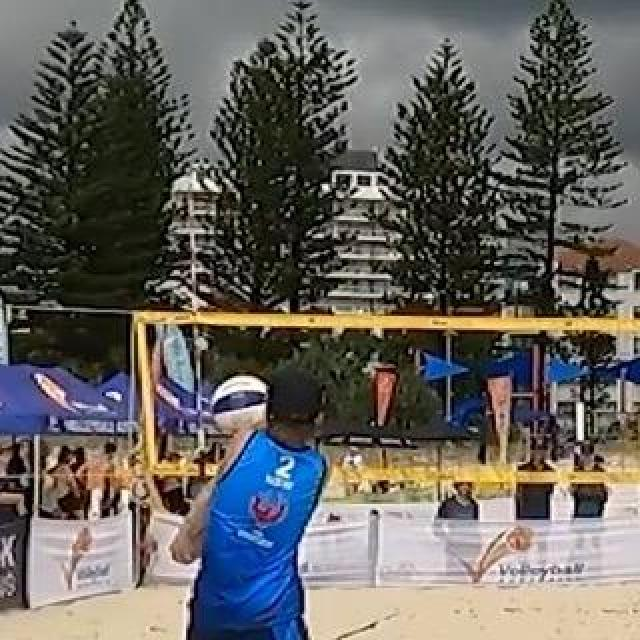volleyball: (211, 374, 279, 438)
